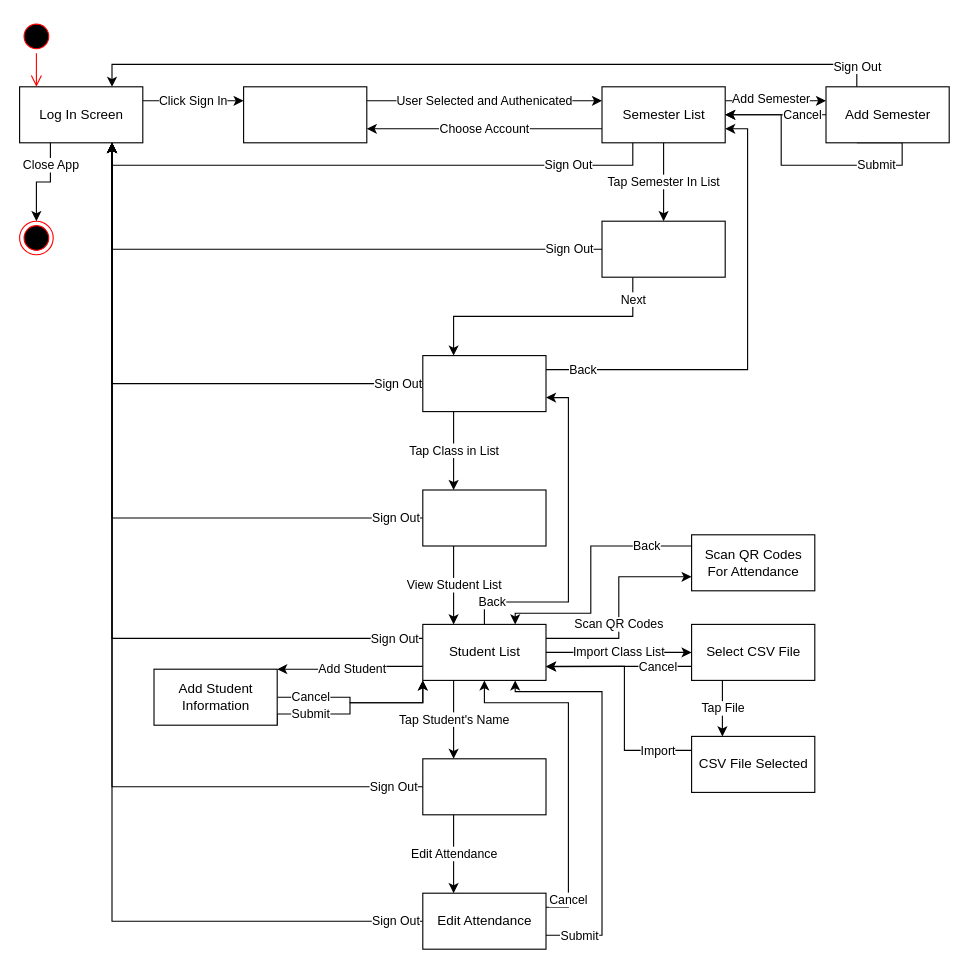
Image size: 969x969. Some labels were removed from this diagram. Each missing label, with the centre of its shape:
Class Selected: the point at 484,517
Classes List: the point at 484,383
Semester Selected: the point at 663,248
Student Selected: the point at 484,786
User Selection and Authenication: the point at 304,114
